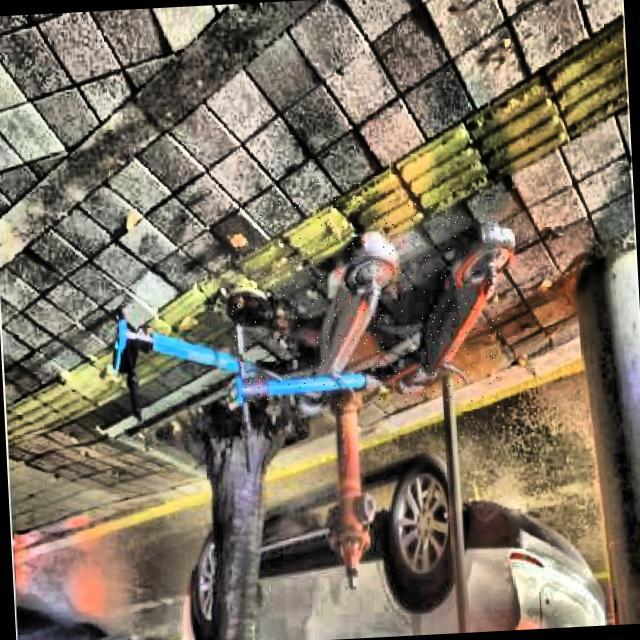bike: (26, 104, 610, 640)
